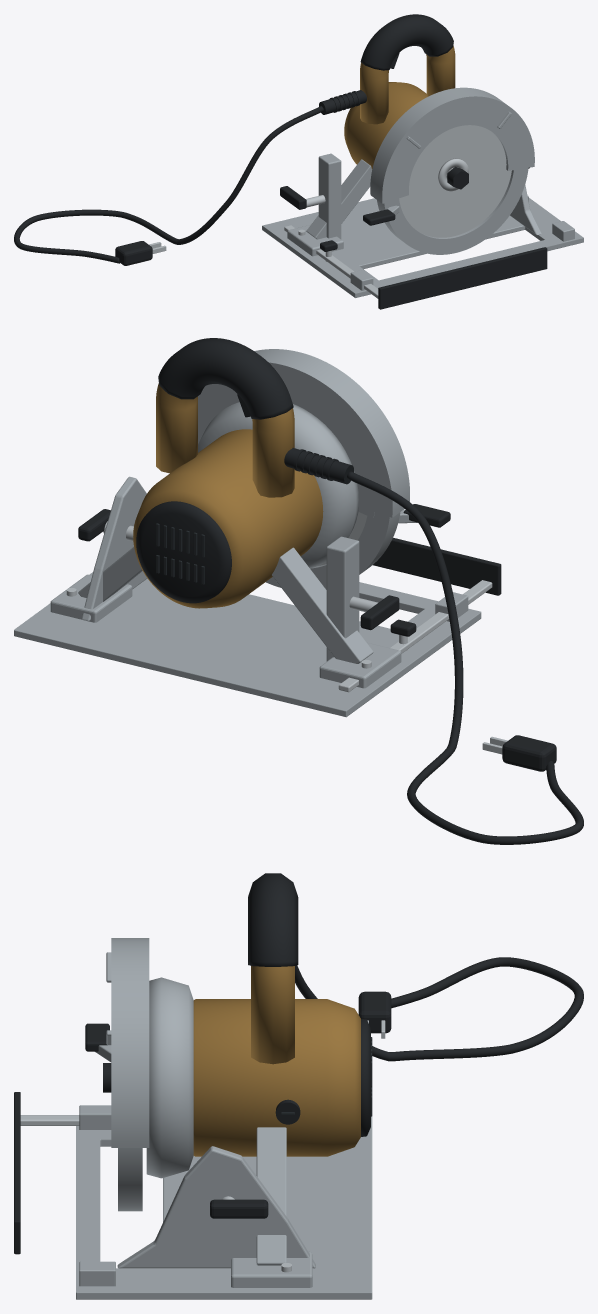
3 views of the same model, one above another, from view 1: azimuth 30°, elevation 25°; view 2: azimuth 150°, elevation 25°; view 3: azimuth 270°, elevation 25° (orthographic). The views are drawn at different scales.
Visible parts, largest first — view 1: Original24 tooth circular blade, Upper fixed U section guard, One piece open aperture shoe, Rip fence perpendicular guide, Lower closed crescent U guard, Attached original static cord, Rubber upper handgrip, Transverse motor housing, Molded open handle frame, Rear depth adjustment upright, Body to shoe support -1, Shoe support foot -1 (+5 smaller); view 2: One piece open aperture shoe, Transverse motor housing, Upper fixed U section guard, Motor rear end cover, Rubber upper handgrip, Molded open handle frame, Attached original static cord, Rear gearbox housing, Body to shoe support -1, Rip fence perpendicular guide, Front bevel upright, Rear depth adjustment upright (+8 smaller); view 3: Transverse motor housing, One piece open aperture shoe, Front bevel upright, Rear gearbox housing, Upper fixed U section guard, Attached original static cord, Rubber upper handgrip, Molded open handle frame, Body to shoe support 1, Shoe support foot 1, Lower closed crescent U guard, Generic plug body (+7 smaller).
Part boxes in pixels (left/top/right/bottom): Original24 tooth circular blade: left=399, top=125, right=511, bottom=237; Upper fixed U section guard: left=370, top=87, right=534, bottom=203; One piece open aperture shoe: left=262, top=198, right=583, bottom=297; Rip fence perpendicular guide: left=378, top=247, right=547, bottom=309; Lower closed crescent U guard: left=377, top=168, right=528, bottom=254; Attached original static cord: left=14, top=106, right=323, bottom=263; Rubber upper handgrip: left=360, top=14, right=453, bottom=70; Transverse motor housing: left=344, top=82, right=427, bottom=168; Molded open handle frame: left=360, top=45, right=455, bottom=124; Rear depth adjustment upright: left=318, top=153, right=341, bottom=239; Body to shoe support -1: left=306, top=159, right=372, bottom=239; Shoe support foot -1: left=287, top=224, right=343, bottom=256; One piece open aperture shoe: left=14, top=572, right=481, bottom=717; Transverse motor housing: left=133, top=429, right=323, bottom=608; Upper fixed U section guard: left=198, top=349, right=409, bottom=517; Motor rear end cover: left=136, top=501, right=231, bottom=603; Rubber upper handgrip: left=158, top=338, right=293, bottom=419; Molded open handle frame: left=156, top=383, right=294, bottom=497; Attached original static cord: left=347, top=471, right=583, bottom=844; Rear gearbox housing: left=198, top=402, right=358, bottom=568; Body to shoe support -1: left=272, top=547, right=373, bottom=663; Rip fence perpendicular guide: left=373, top=537, right=501, bottom=595; Front bevel upright: left=81, top=476, right=147, bottom=621; Rear depth adjustment upright: left=326, top=536, right=359, bottom=661; Transverse motor housing: left=193, top=999, right=360, bottom=1156; One piece open aperture shoe: left=76, top=1116, right=372, bottom=1299; Front bevel upright: left=117, top=1146, right=315, bottom=1268; Rear gearbox housing: left=146, top=977, right=193, bottom=1178; Upper fixed U section guard: left=111, top=938, right=149, bottom=1147; Attached original static cord: left=295, top=957, right=583, bottom=1061; Rubber upper handgrip: left=248, top=873, right=298, bottom=966; Molded open handle frame: left=251, top=966, right=294, bottom=1064; Body to shoe support 1: left=256, top=1127, right=286, bottom=1265; Shoe support foot 1: left=231, top=1251, right=312, bottom=1287; Lower closed crescent U guard: left=118, top=1148, right=142, bottom=1211; Generic plug body: left=358, top=991, right=391, bottom=1033.
Size of the model in its own units: 58.28 by 26.76 by 41.91.
